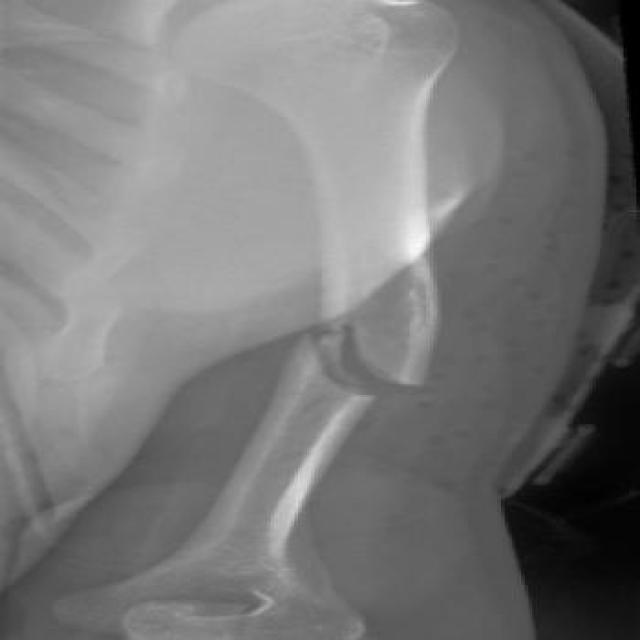Fracture: (289, 304, 455, 422)
